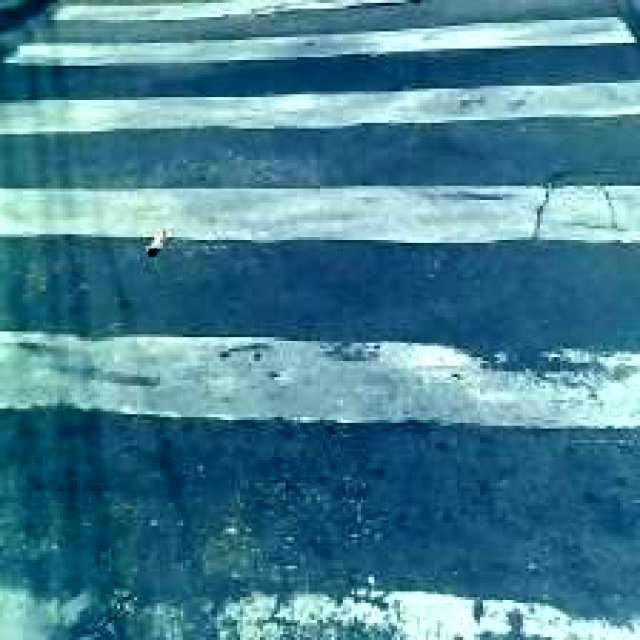crosswalk: (1, 0, 542, 447)
